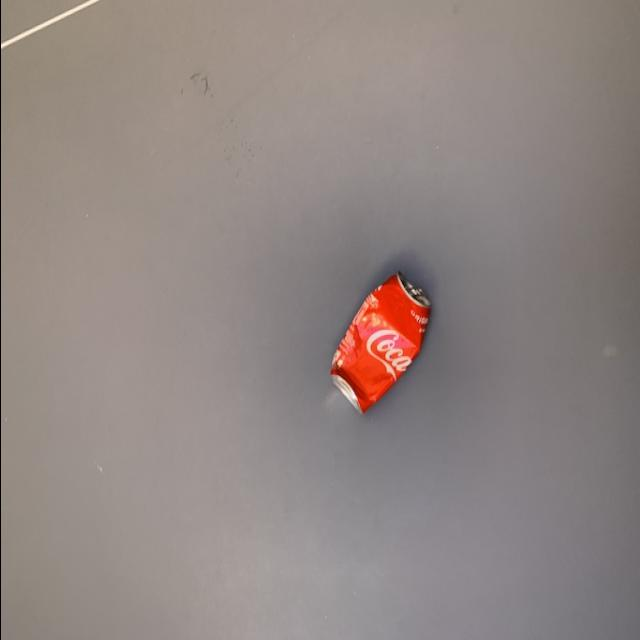litter: (318, 268, 434, 424)
